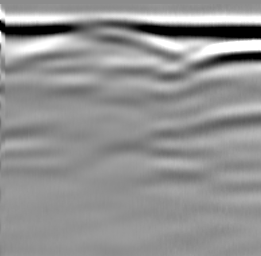pipe: (67, 20, 164, 51)
steel: (191, 39, 261, 64)
